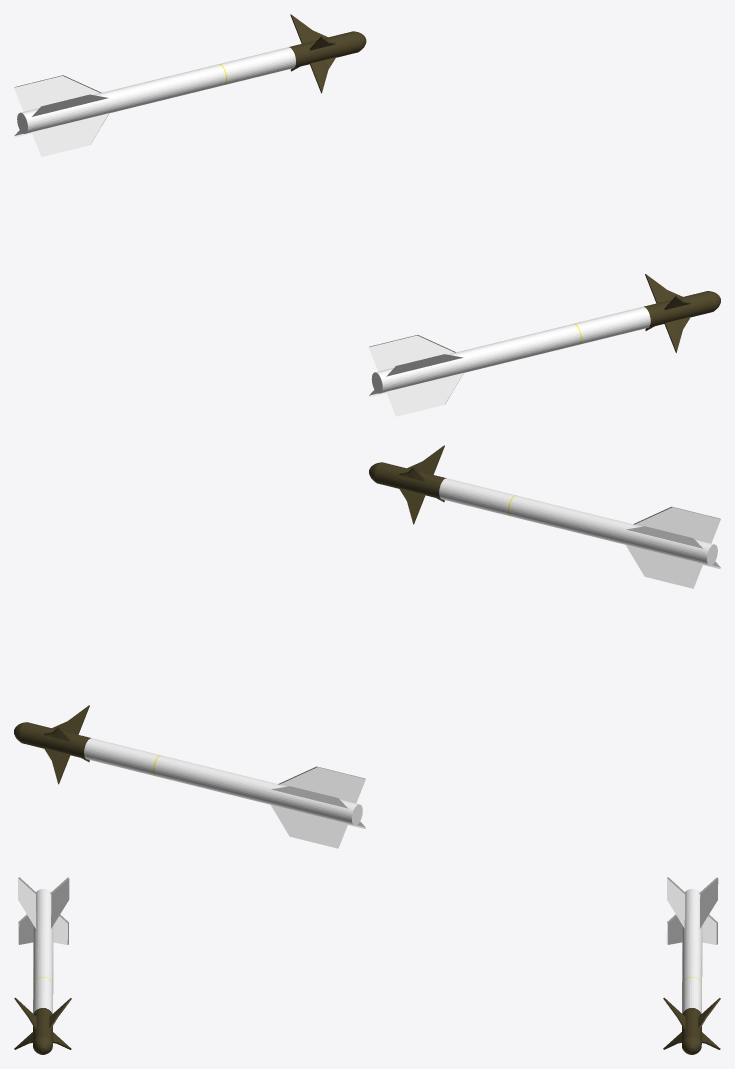
The model's file is f15eaim914.glb.
3 views of the same model, one above another, from view 1: azimuth 30°, elevation 25°; view 2: azimuth 150°, elevation 25°; view 3: azimuth 270°, elevation 25° (orthographic). The views are drawn at different scales.
Parts seen in each view (by area): view 1: 円柱.006, 円柱.007; view 2: 円柱.007, 円柱.006; view 3: 円柱.007, 円柱.006.
Part boxes in pixels (x1,y1,x2,y2): 円柱.006: (14,14,366,156); 円柱.007: (369,274,720,416); 円柱.007: (369,445,720,588); 円柱.006: (14,705,365,848); 円柱.007: (14,877,71,1054); 円柱.006: (663,877,720,1054).
Size of the model in its own units: 3.38 by 0.543 by 6.61.
2 materials, 2 textured.
